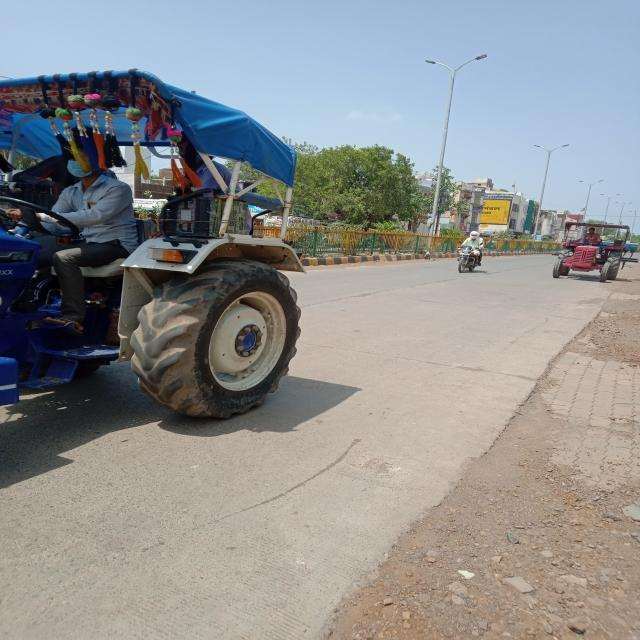tractor_front: (0, 69, 311, 438), (550, 214, 633, 290)
two_wheeler_front: (456, 239, 488, 276)
